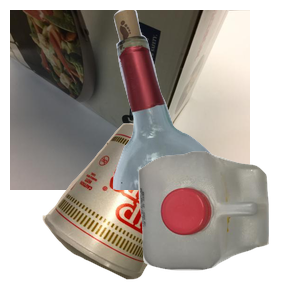cardboard: (10, 10, 250, 190)
glass: (89, 10, 300, 190)
plastic: (136, 149, 300, 300)
trash: (40, 121, 221, 300)
